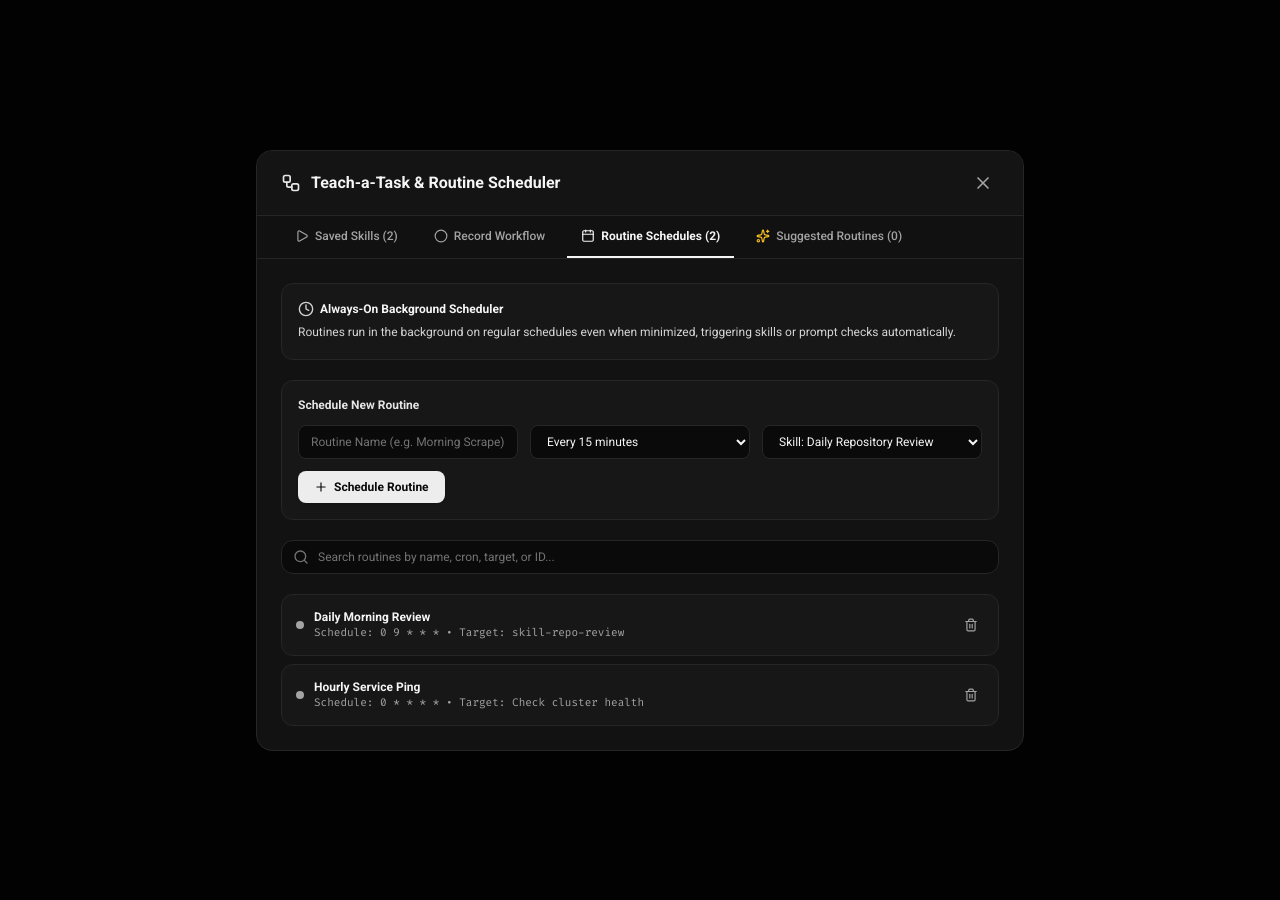
Test: TeachTaskModal - Task Deletion & Lifecycle › supports routine deletion with explicit confirmation dialog and removes routine
This screenshot has width=1280, height=900.
Expected: the text "Daily Morning Review" is shown, [314, 610, 430, 624]
Click the button named "Delete task" in the row of "skill-repo-review".
click(971, 624)  # box [958, 612, 984, 638]
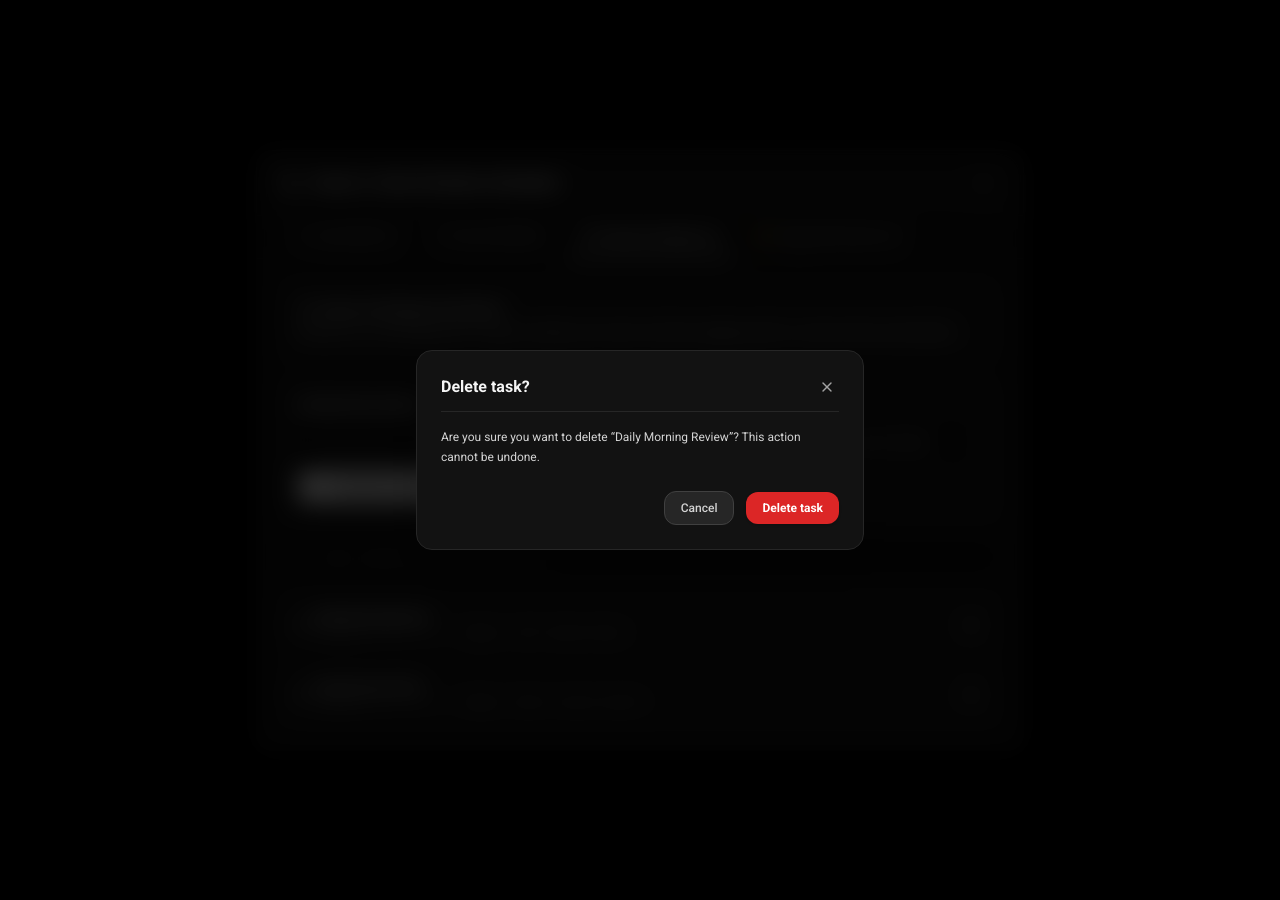
Now the heading "Delete task?" is shown, box [441, 375, 530, 399]
Now the text "Are you sure you want to delete “Daily Morning Review”? This action cannot be undone." is shown, box [441, 428, 839, 467]
# Confirm deletion
Click the button "Delete task".
click(793, 508)  # box [746, 492, 839, 524]
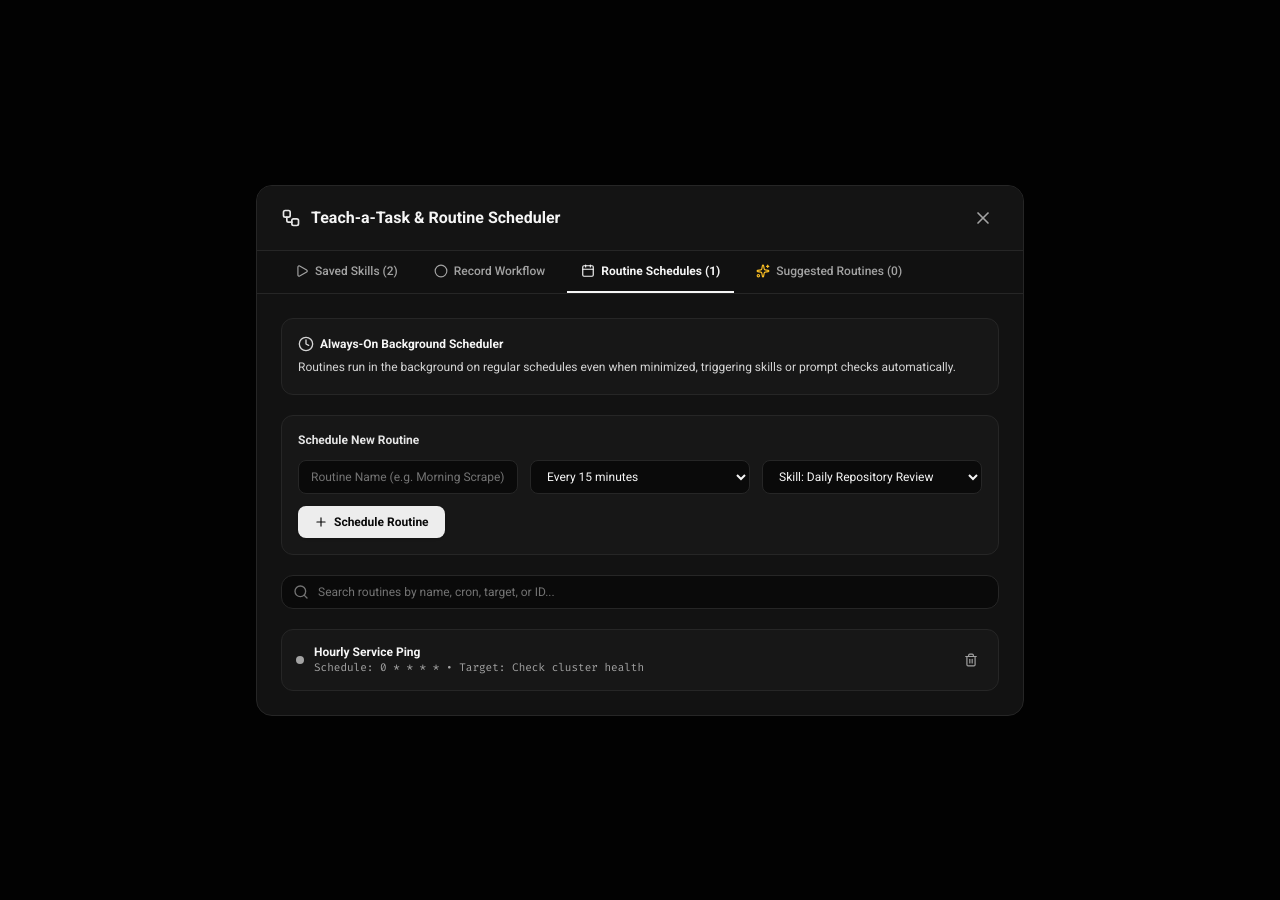
Expected: the text "Hourly Service Ping" is shown, [314, 644, 420, 658]
Now the text "Daily Morning Review" is gone
